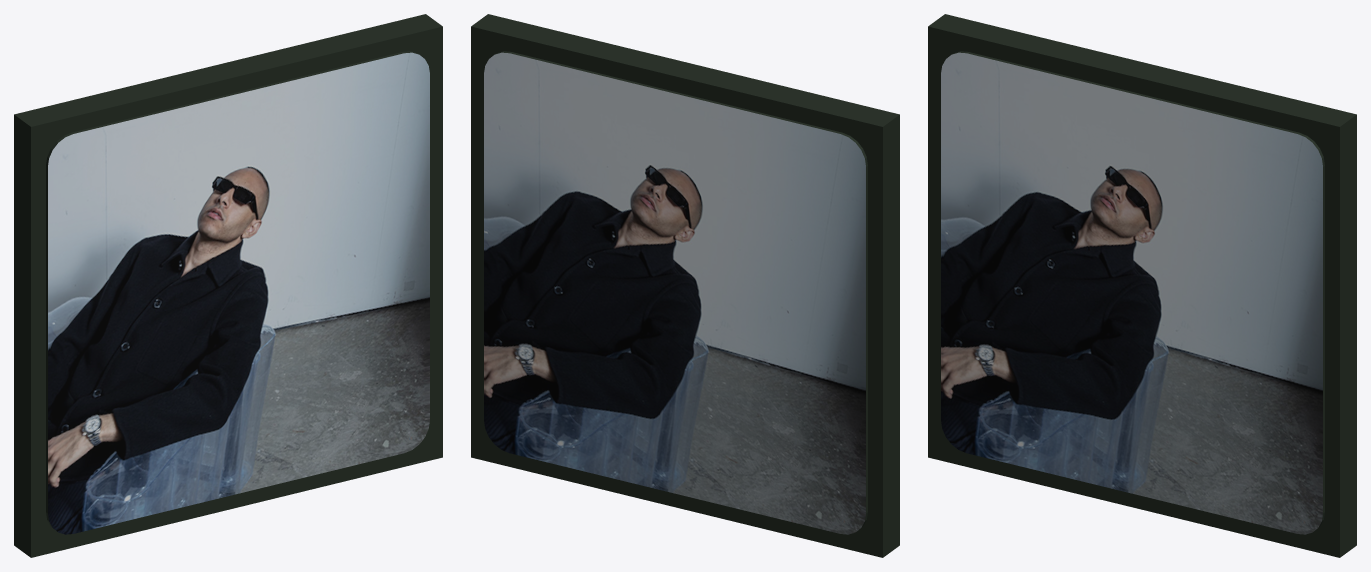
Rendered from tamasee7.gltf.
The picture shows the model from 3 angles, left to right: view 1: azimuth 30°, elevation 25°; view 2: azimuth 150°, elevation 25°; view 3: azimuth 330°, elevation 25°; orthographic projection.
Parts seen in each view (by area): view 1: cube; view 2: cube; view 3: cube.
Boxes of the visible parts, x1,y1,x2,y2 form: cube: [14, 14, 442, 557]; cube: [471, 14, 899, 557]; cube: [928, 14, 1356, 557].
Bounding box in the file's own units: 2 × 2 × 0.1757.
Materials: 2 (1 with a texture image).
